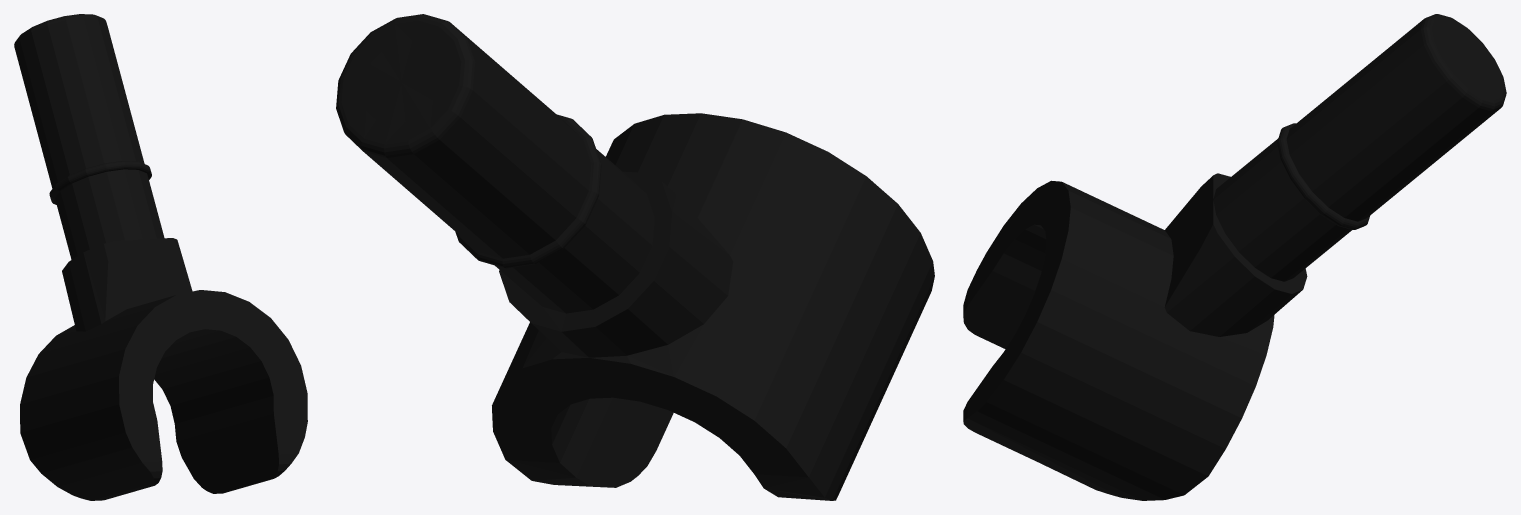
Rendered from BatmanManoD.obj.
3 renders of one model, left to right at view 1: azimuth 30°, elevation 25°; view 2: azimuth 150°, elevation 25°; view 3: azimuth 270°, elevation 25°, orthographic. The views are drawn at different scales.
Parts seen in each view (by area): view 1: Part_10; view 2: Part_10; view 3: Part_10.
Boxes of the visible parts, <box> form: Part_10: <box>14,14,307,500</box>; Part_10: <box>336,14,934,500</box>; Part_10: <box>963,14,1506,500</box>.
Size of the model in its own units: 5.32 by 9.58 by 10.12.
